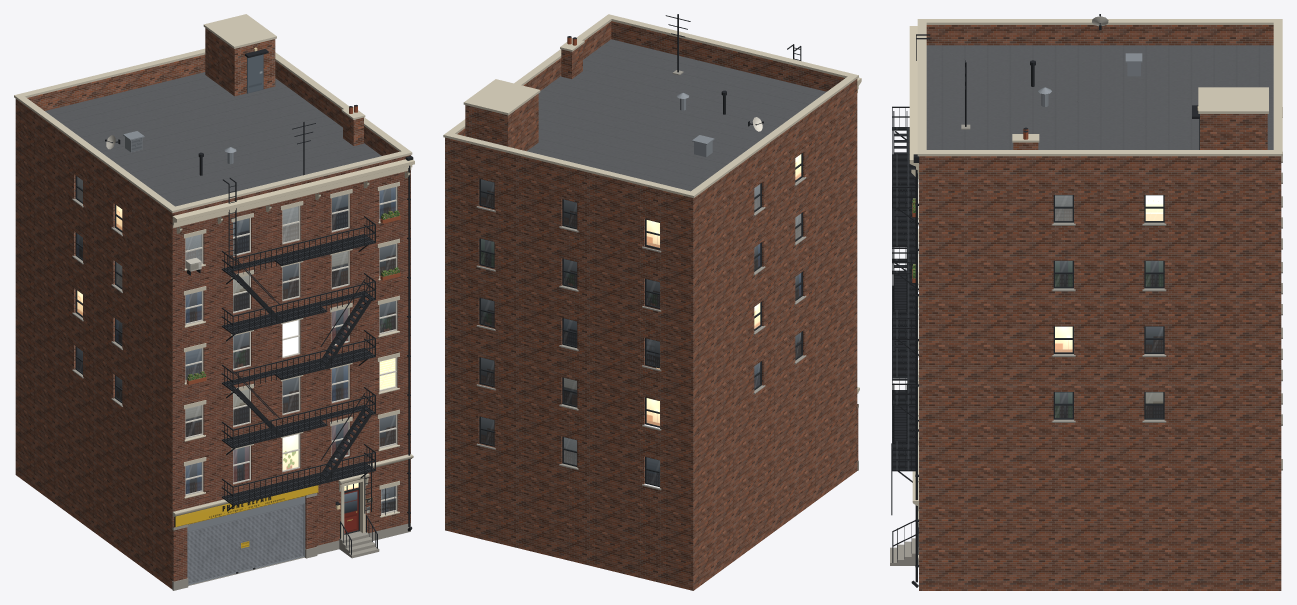
The model's file is PhoneRepair.fbx.
The picture shows the model from 3 angles, left to right: view 1: azimuth 30°, elevation 25°; view 2: azimuth 150°, elevation 25°; view 3: azimuth 270°, elevation 25°; orthographic projection. The views are drawn at different scales.
Visible parts, largest first — view 1: PhoneRepair_Mesh; view 2: PhoneRepair_Mesh; view 3: PhoneRepair_Mesh.
Part boxes in pixels (<box>): PhoneRepair_Mesh: <box>14,14,414,590</box>; PhoneRepair_Mesh: <box>443,14,861,590</box>; PhoneRepair_Mesh: <box>890,14,1282,590</box>.
Size of the model in its own units: 14.14 by 23.37 by 17.35.
